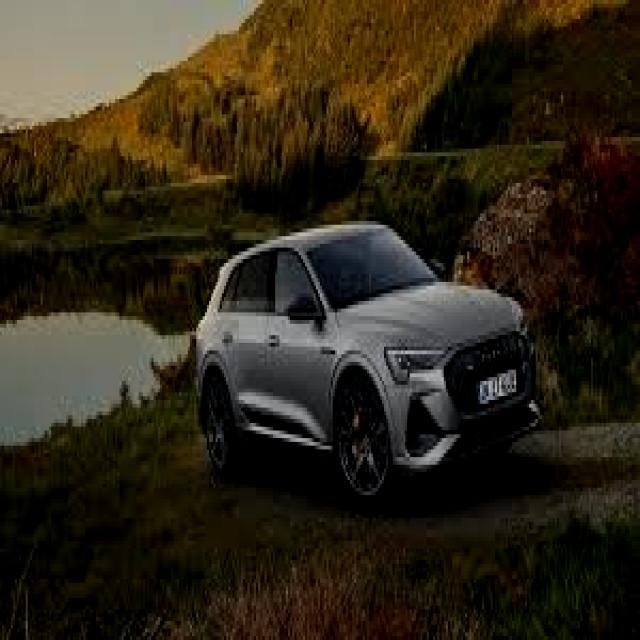SUV: (194, 218, 544, 513)
